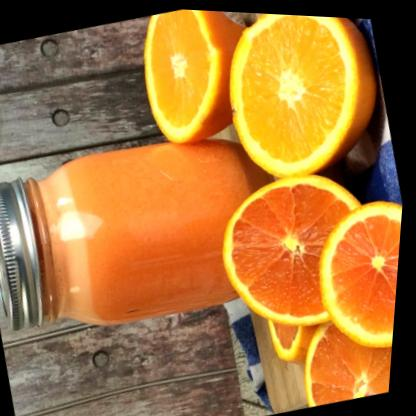---: (201, 147, 398, 347), (200, 9, 395, 195), (120, 5, 263, 157), (287, 285, 400, 408)
